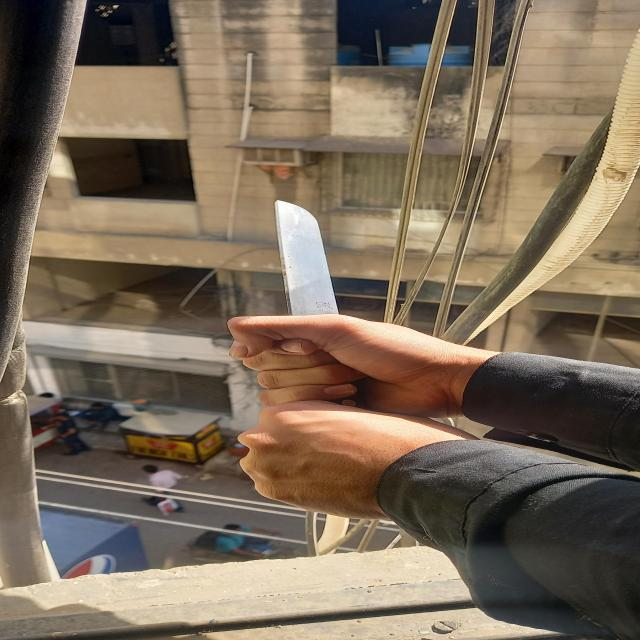Knife: (271, 200, 342, 314)
Person: (232, 317, 640, 640)
